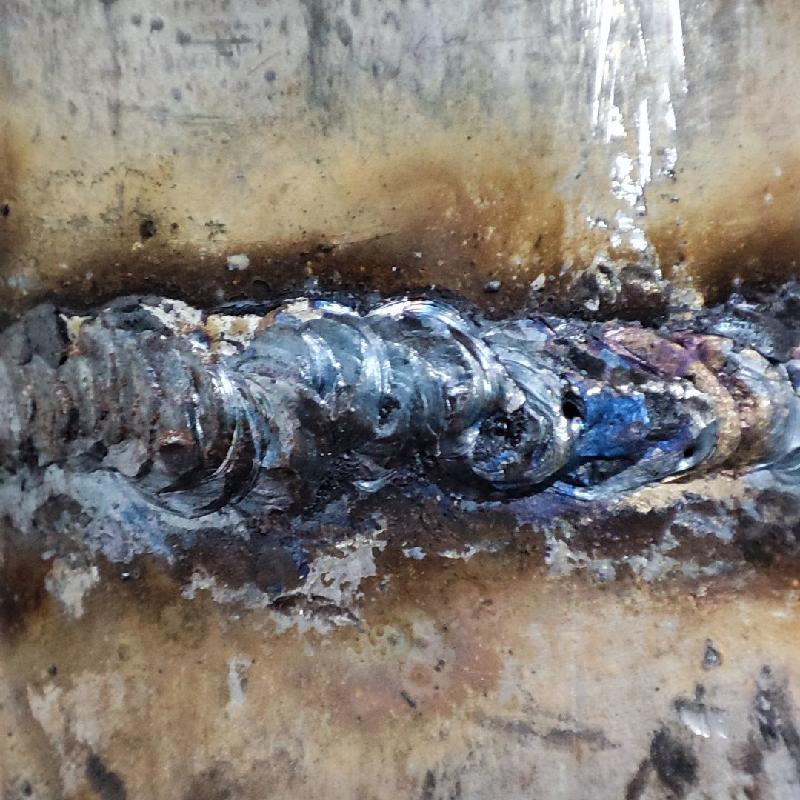Surface_pores: (647, 413, 724, 477), (551, 384, 602, 438)
good: (1, 294, 799, 503)
